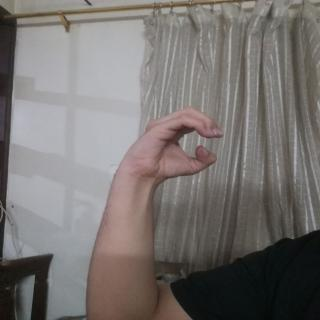JEEM: (109, 107, 243, 188)
